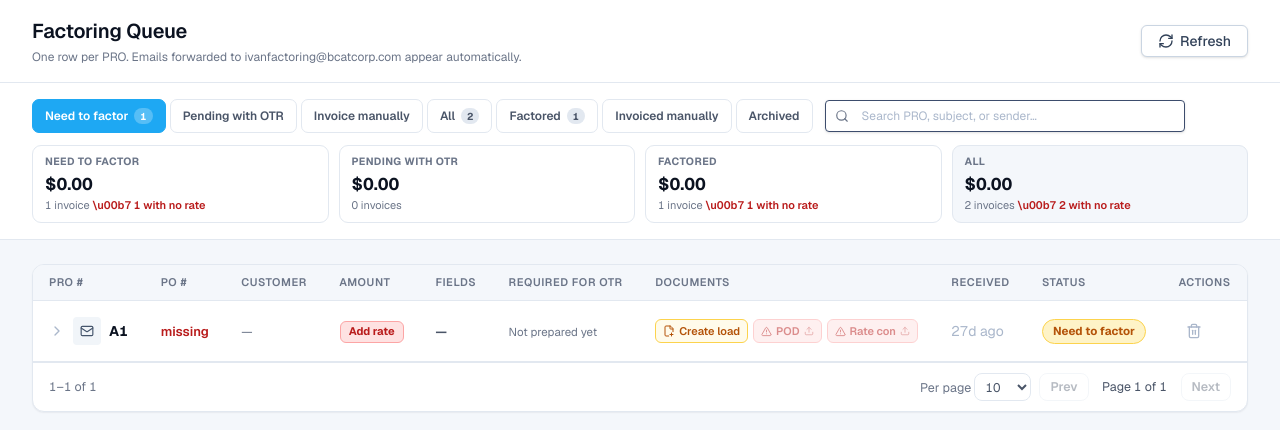
Test: filters › switches to another status when asked
Click the button "Factored 1": (547, 116) [496, 99, 598, 133]
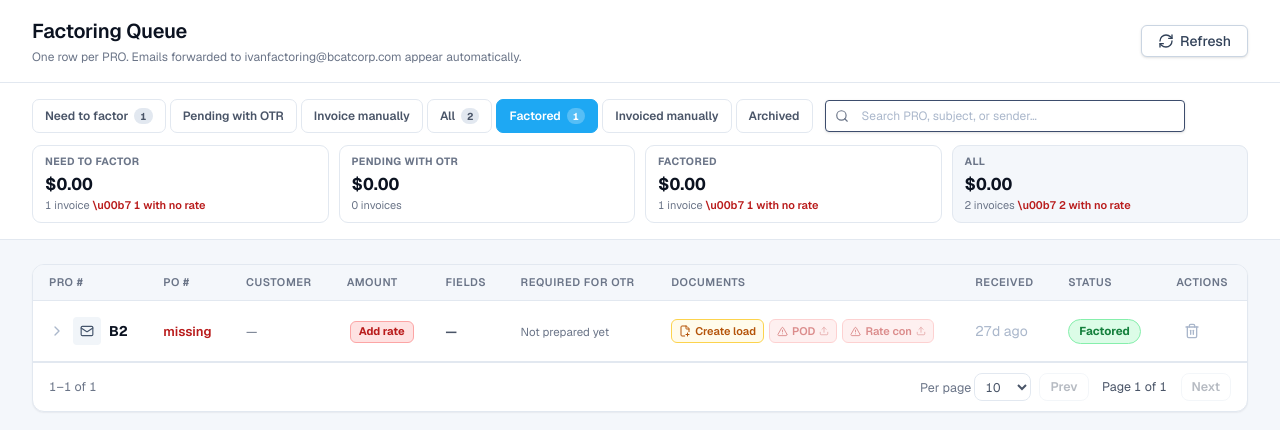
Result: the text "B2" is shown at [109, 322, 128, 340]
Result: the text "A1" is gone
